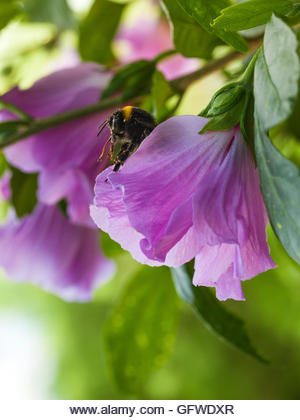Hibiscus: (115, 74, 275, 298), (1, 43, 130, 310)
